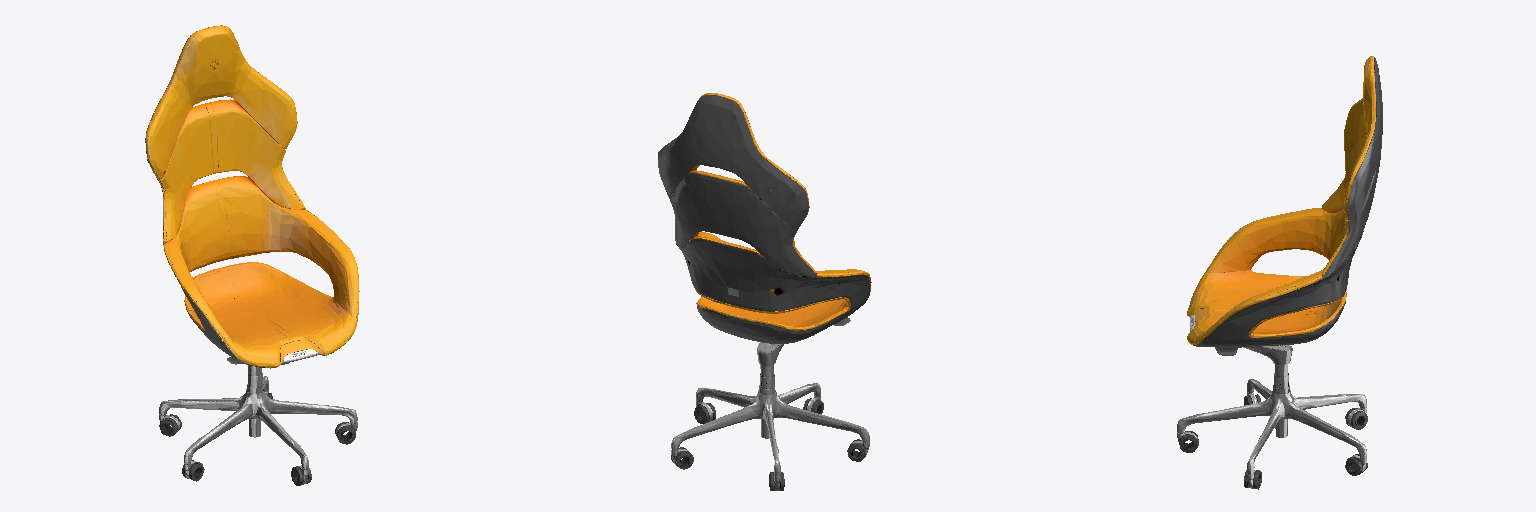
The picture shows the model from 3 angles: view 1: azimuth 30°, elevation 25°; view 2: azimuth 150°, elevation 25°; view 3: azimuth 270°, elevation 25°; orthographic projection.
Visible parts, largest first — view 1: solid_002, solid_003, solid_004, solid_001; view 2: solid_001, solid_003, solid_002, solid_004; view 3: solid_002, solid_001, solid_003, solid_004.
Part boxes in pixels (x1,y1,x2,y2): solid_002: (146, 25, 358, 367); solid_003: (159, 349, 357, 484); solid_004: (159, 393, 355, 485); solid_001: (145, 31, 339, 368); solid_001: (658, 95, 869, 343); solid_003: (671, 317, 869, 490); solid_002: (665, 93, 870, 330); solid_004: (671, 398, 865, 490); solid_002: (1187, 56, 1380, 344); solid_001: (1193, 57, 1382, 347); solid_003: (1177, 315, 1366, 488); solid_004: (1179, 394, 1367, 489).
Bounding box in the file's own units: 0.7366 × 1.59 × 0.7623.
Materials: 1 (1 with a texture image).